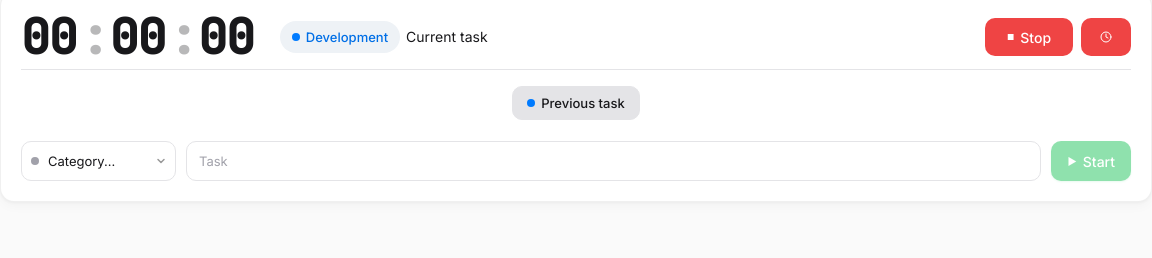
Test case: TimeTracker › handles suggestion selection in switch task form
Select "Development" in the dropdown with class "switch-category-select": (98, 161) x1=21 y1=141 x2=176 y2=181
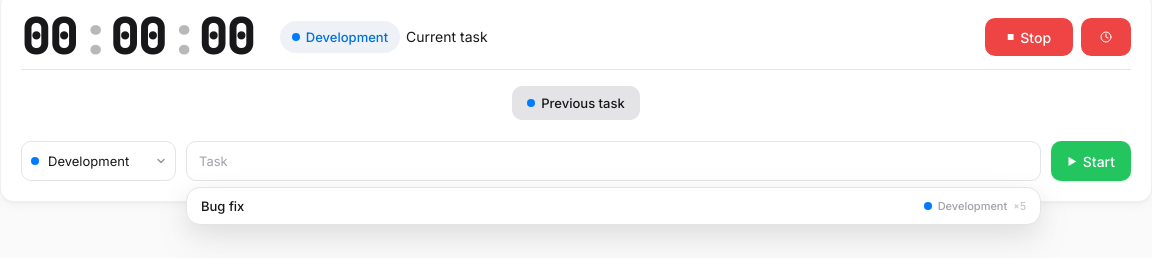
In the field with class "switch-description-input": (614, 161) x1=186 y1=141 x2=1042 y2=181, type "Bug"
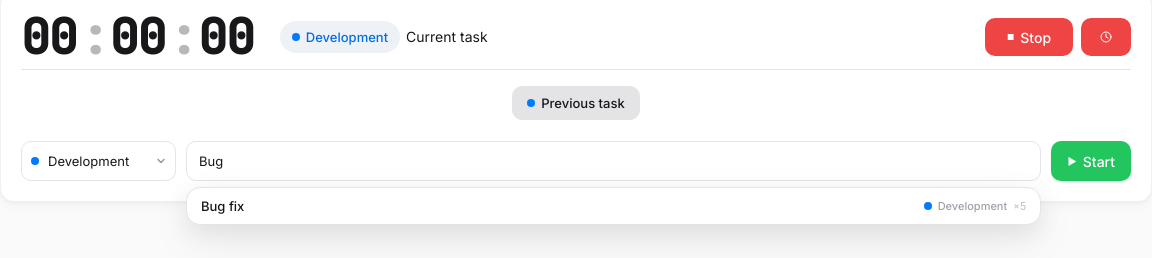
expect the button with class "suggestion-item" is shown: met, box x1=187 y1=188 x2=1040 y2=224
Note: Navigate down
Press ArrowDown in the field with class "switch-description-input", box x1=186 y1=141 x2=1042 y2=181
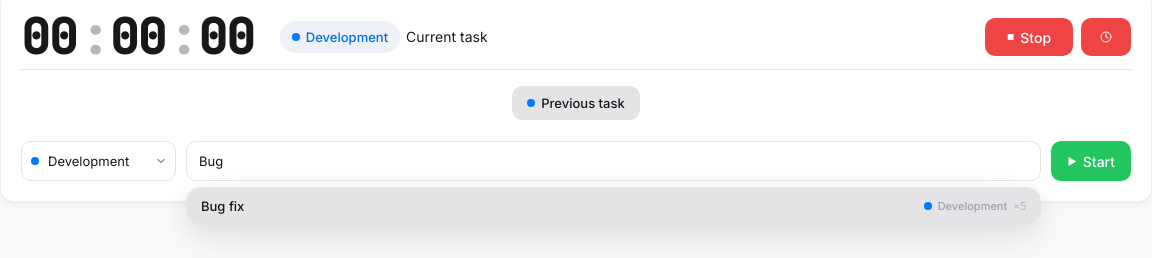
Note: Select with Enter
Press Enter in the field with class "switch-description-input", box x1=186 y1=141 x2=1042 y2=181
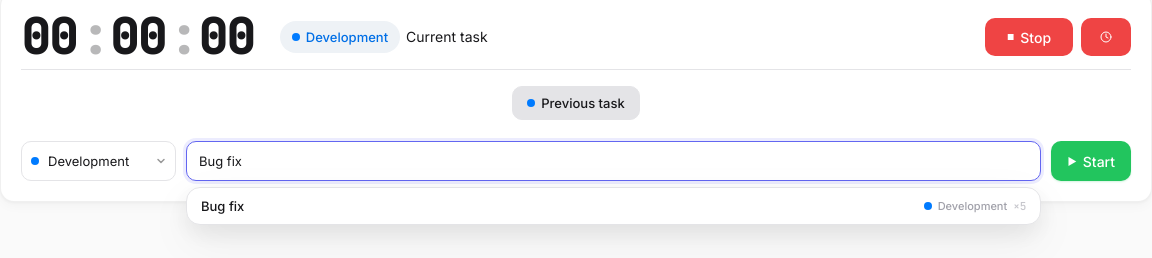
expect the field with class "switch-description-input" holds "Bug fix": met, box x1=186 y1=141 x2=1042 y2=181
